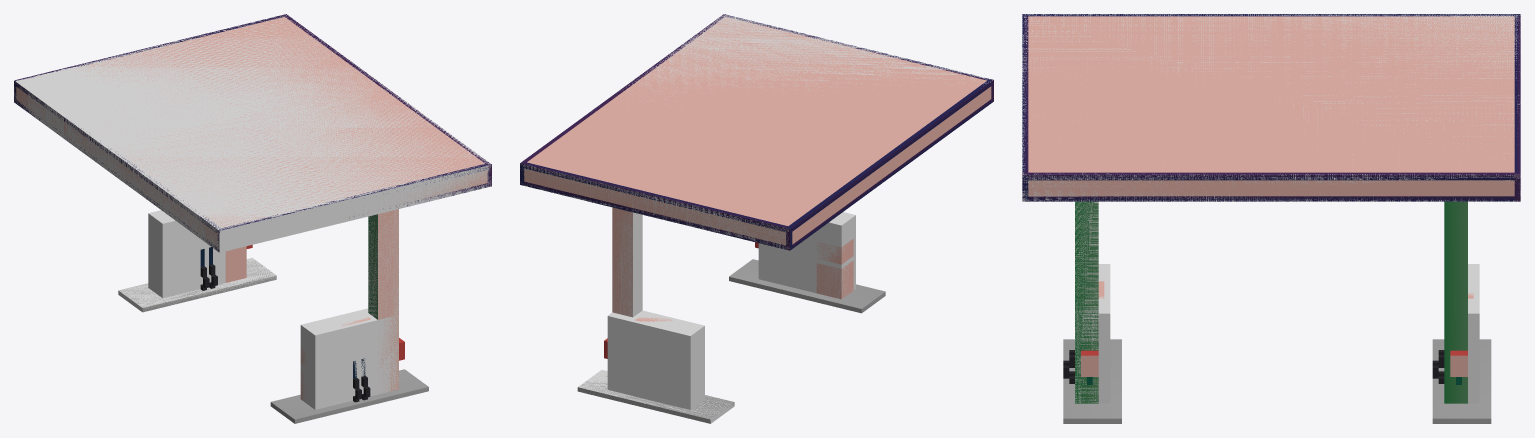
Rendered from Fueling01_B1_1_01.FBX.
The picture shows the model from 3 angles, left to right: view 1: azimuth 30°, elevation 25°; view 2: azimuth 150°, elevation 25°; view 3: azimuth 270°, elevation 25°; orthographic projection. The views are drawn at different scales.
Parts seen in each view (by area): view 1: Fueling01_B1_Damage_1_01, Fueling01_B1_Live_1_01; view 2: Fueling01_B1_Live_1_01, Fueling01_B1_Damage_1_01; view 3: Fueling01_B1_Live_1_01, Fueling01_B1_Damage_1_01.
Boxes of the visible parts, x1,y1,x2,y2 form: Fueling01_B1_Damage_1_01: (14,14,491,409); Fueling01_B1_Live_1_01: (14,14,491,423); Fueling01_B1_Live_1_01: (520,14,993,423); Fueling01_B1_Damage_1_01: (520,14,992,423); Fueling01_B1_Live_1_01: (1022,14,1520,423); Fueling01_B1_Damage_1_01: (1022,14,1520,403).
Size of the model in its own units: 4.95 by 3.96 by 6.48.
